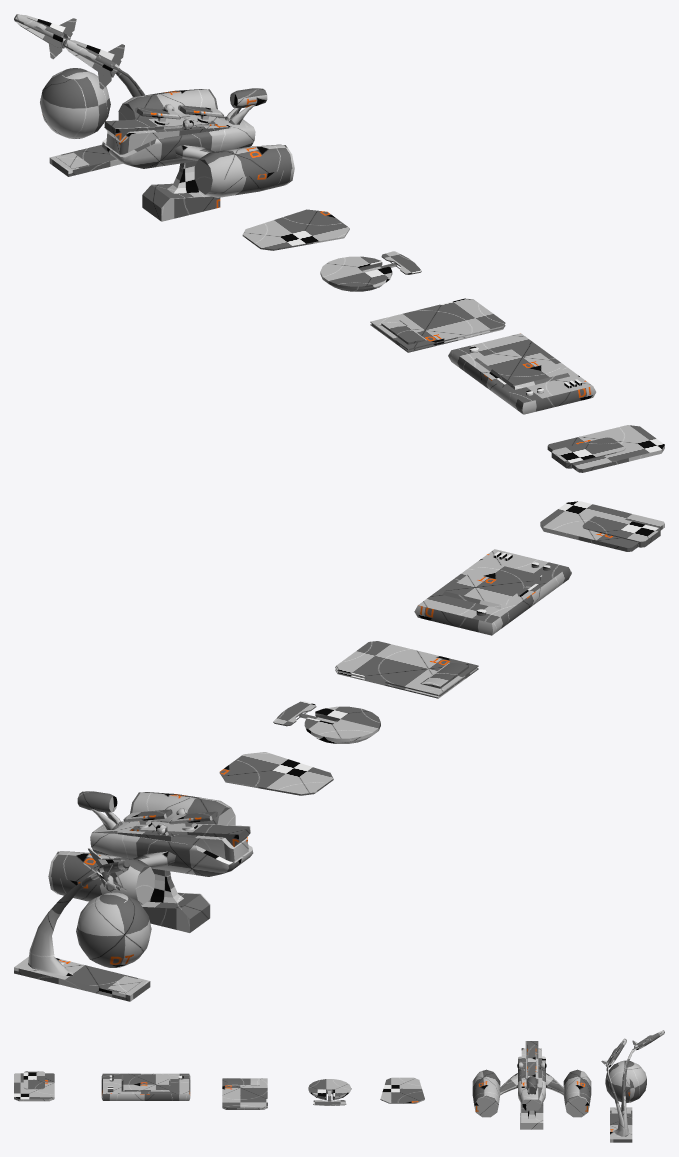
Rendered from Pack_05_Gameready.FBX.
3 views of the same model, one above another, from view 1: azimuth 30°, elevation 25°; view 2: azimuth 150°, elevation 25°; view 3: azimuth 270°, elevation 25° (orthographic). The views are drawn at different scales.
Visible parts, largest first — view 1: x001, Box022; view 2: x001, Box022; view 3: x001, Box022.
Boxes of the visible parts, x1=… form: x001: x1=14, y1=14, x2=596, y2=414; Box022: x1=547, y1=425, x2=664, y2=472; x001: x1=14, y1=549, x2=571, y2=1001; Box022: x1=540, y1=501, x2=664, y2=551; x001: x1=101, y1=1030, x2=664, y2=1142; Box022: x1=14, y1=1071, x2=54, y2=1101.
Bounding box in the file's own units: 20302 × 16537 × 124099.
